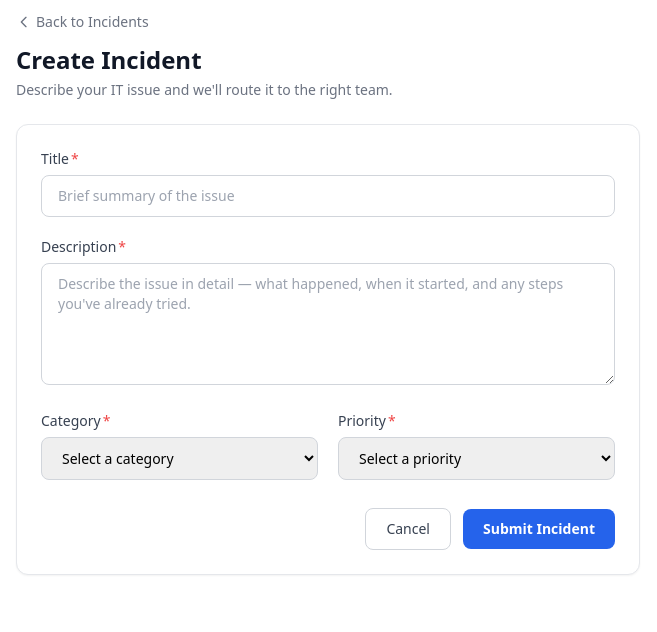
Test: CreateIncidentPage › shows a description error when submitted empty
Type "Some title" into the field labelled "Title*" at coordinates (328, 196), box [41,175,615,217]
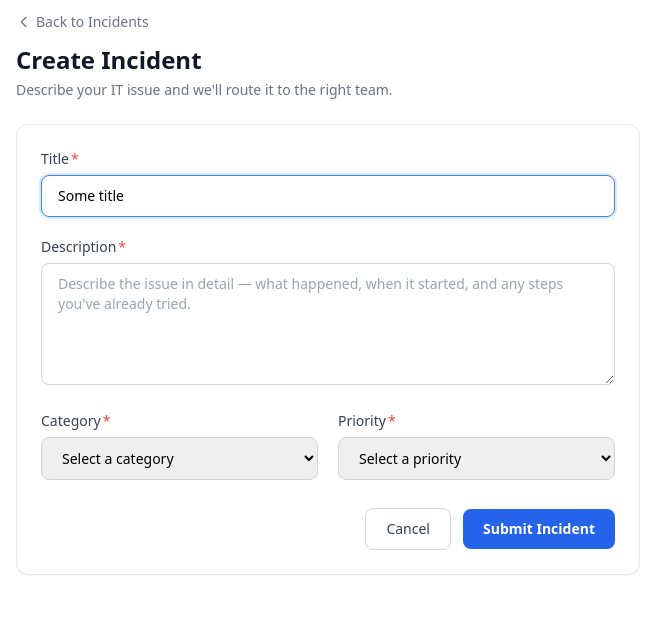
Click the button "Submit Incident" at coordinates (539, 529), box [463,509,615,549]
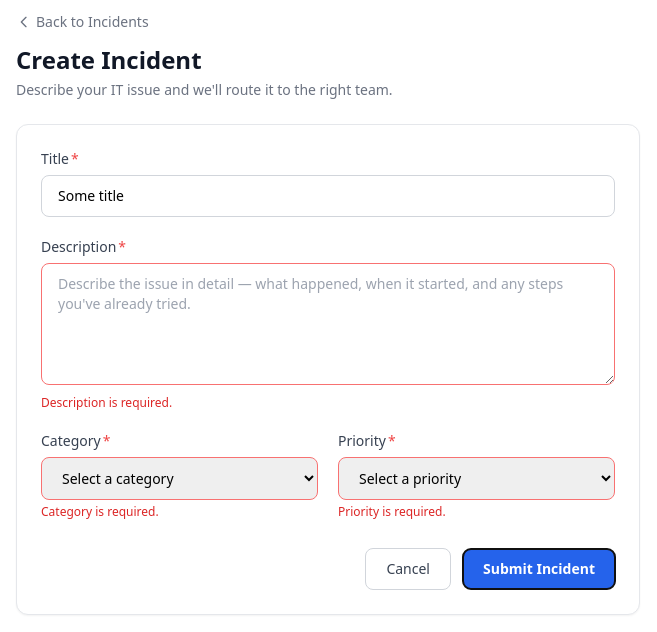
Result: the text "Description is required." is shown at [41,394,172,411]
